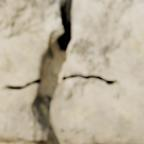broken_brick: (43, 0, 143, 143), (0, 0, 61, 87), (0, 86, 43, 143)
crack: (0, 0, 142, 143)
